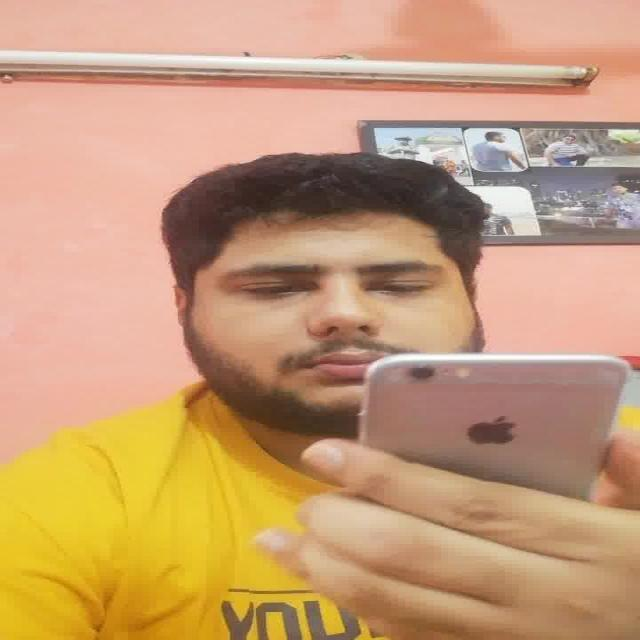Phone: (358, 348, 628, 494)
